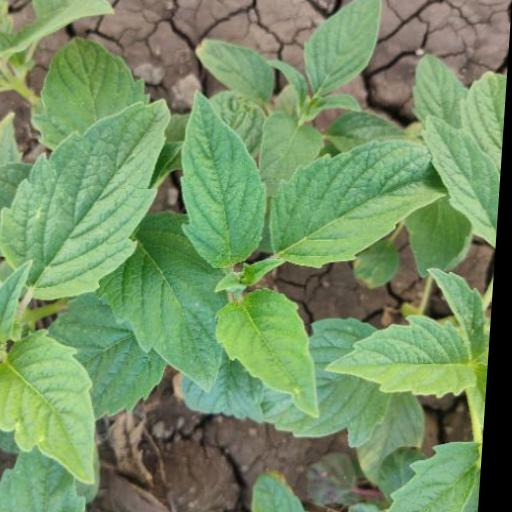crop: (0, 29, 510, 512)
